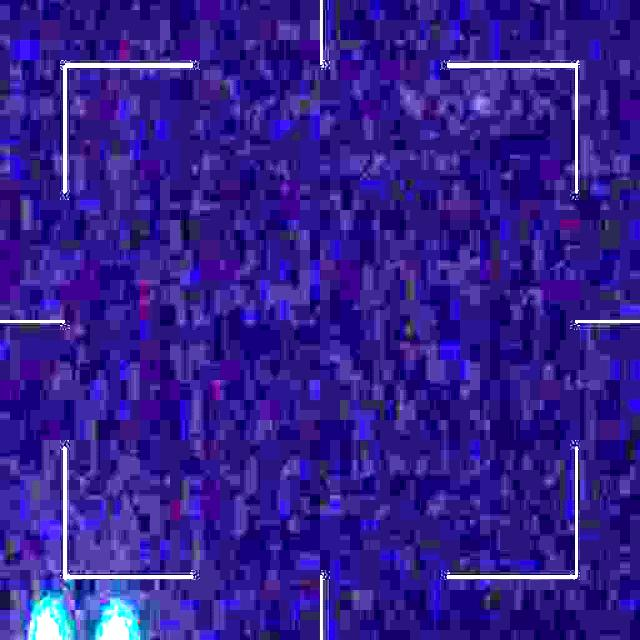bird: (35, 609, 130, 640)
